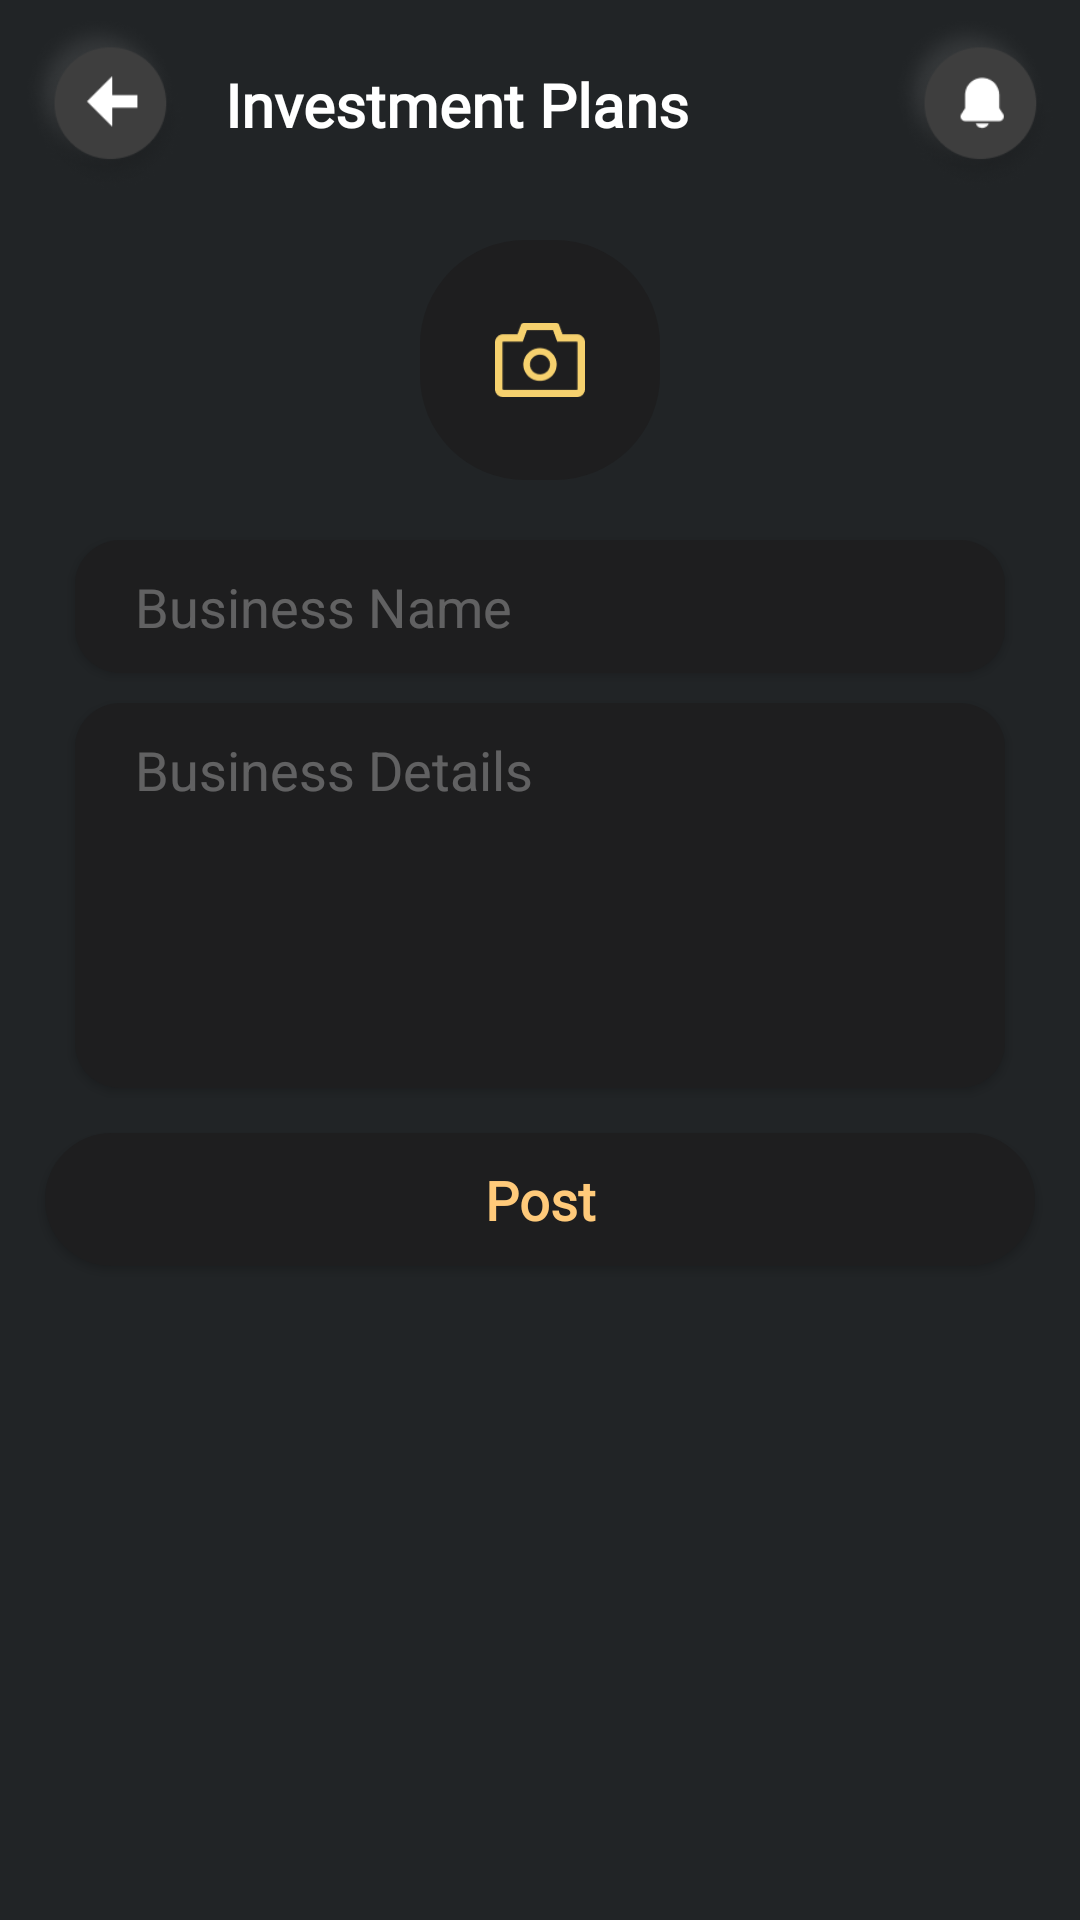

Point at icon controls on the screen. Image size 1080px x 1920px, points as point (x, y).
back: point (110, 103)
camera: point (540, 360)
notification: point (980, 103)
